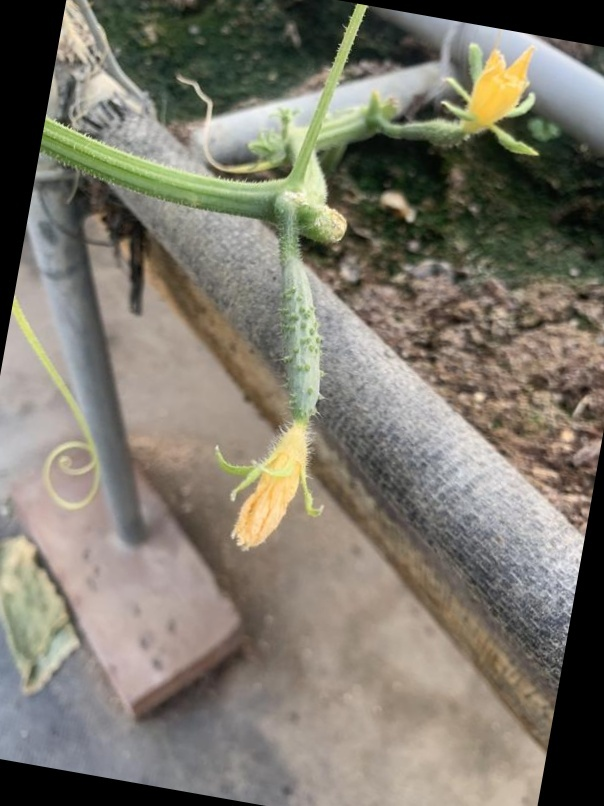bear: (217, 235, 349, 557), (395, 45, 538, 161)
